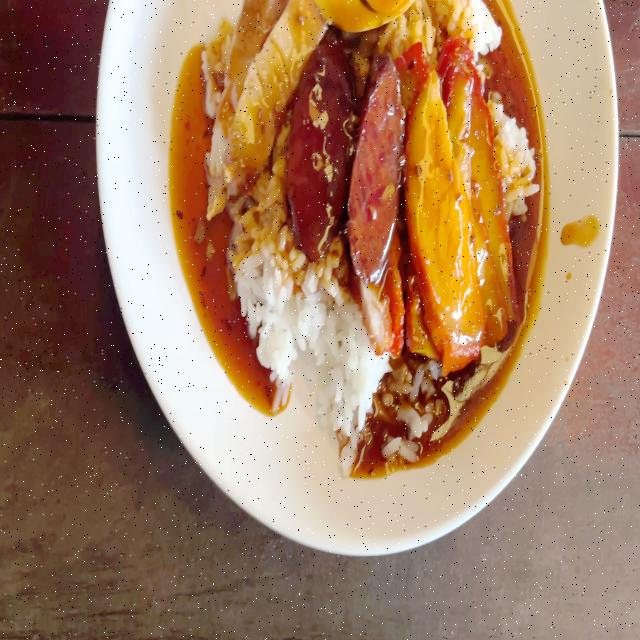chainese_sausage: (286, 50, 404, 268), (290, 42, 355, 246), (350, 73, 403, 265)
crispy_pork: (205, 0, 319, 205)
red_pork: (414, 58, 500, 348), (407, 67, 474, 355)
red_pork_and_crispy_pork: (200, 0, 540, 464)
rice: (268, 252, 359, 430), (225, 193, 284, 385), (339, 360, 384, 455)
